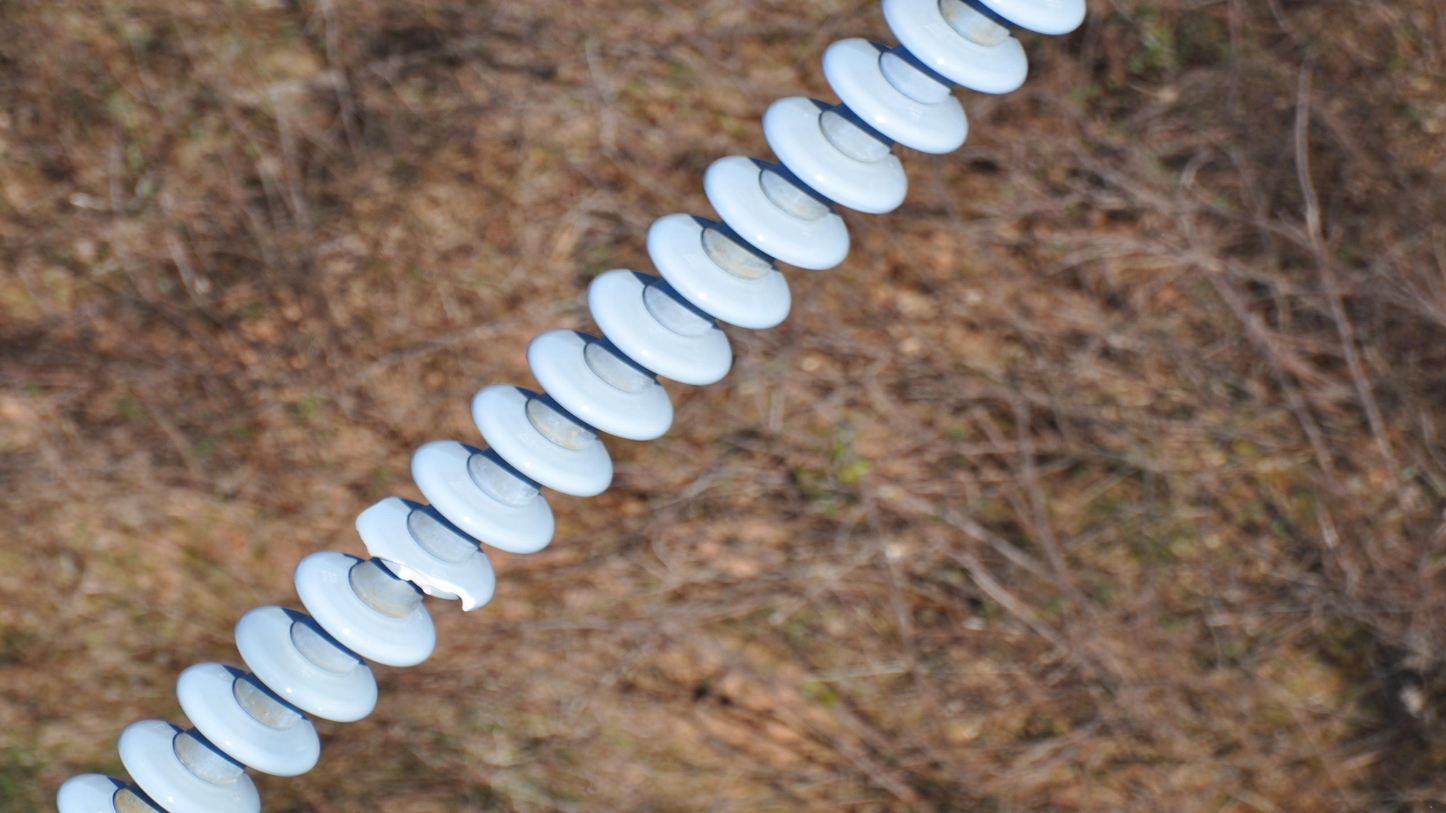insulator: (47, 1, 1094, 813)
